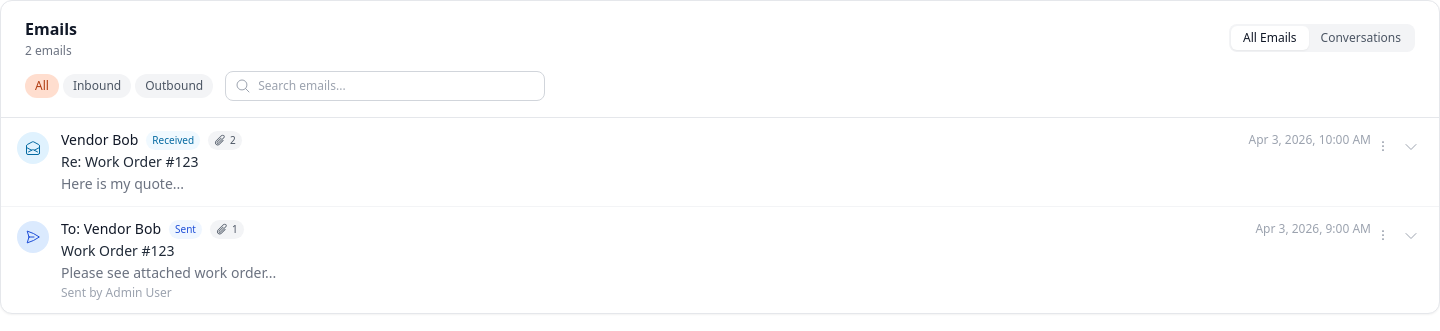
Test case: EmailList › filters emails by search query
Expected: the text "Re: Work Order #123" is shown, [61,152,198,171]
Type "Re: Work" into the field with placeholder "Search emails..." at (385, 86), box [225,71,545,101]
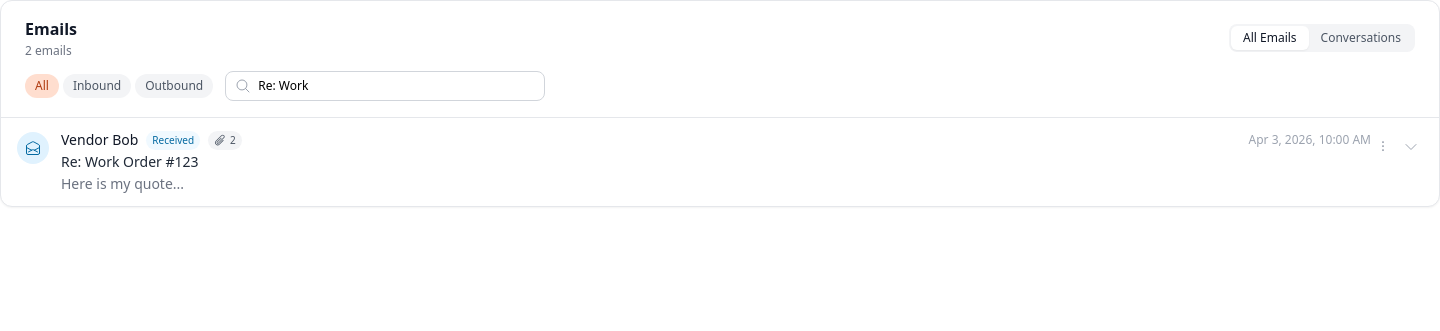
Expected: the text "Re: Work Order #123" is shown, [61,152,198,171]
Result: the button "To: Vendor Bob" is gone
